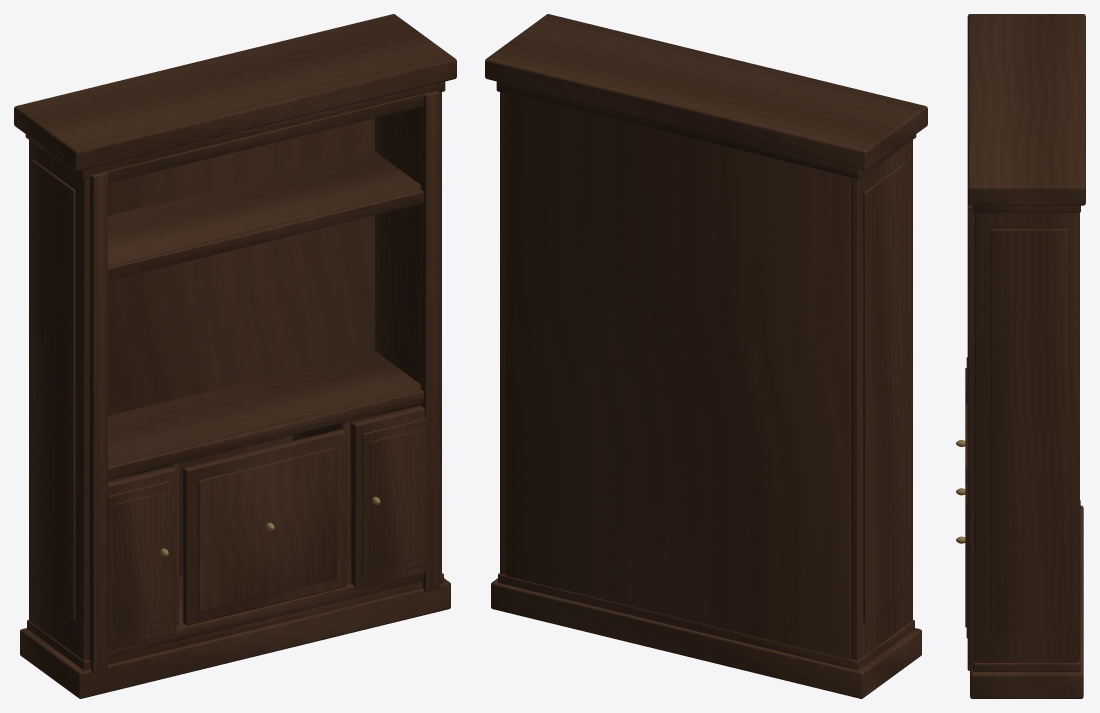
The model's file is victorian_archive_cabinet.glb.
The picture shows the model from 3 angles, left to right: view 1: azimuth 30°, elevation 25°; view 2: azimuth 150°, elevation 25°; view 3: azimuth 270°, elevation 25°; orthographic projection. The views are drawn at different scales.
Parts seen in each view (by area): view 1: Victorian_Archive_Static_Shell, Archive_Service_Panel; view 2: Victorian_Archive_Static_Shell; view 3: Victorian_Archive_Static_Shell, Archive_Service_Panel.
Boxes of the visible parts, x1=… form: Victorian_Archive_Static_Shell: x1=14, y1=14, x2=456, y2=698; Archive_Service_Panel: x1=182, y1=429, x2=346, y2=625; Victorian_Archive_Static_Shell: x1=485, y1=14, x2=927, y2=698; Victorian_Archive_Static_Shell: x1=956, y1=14, x2=1085, y2=698; Archive_Service_Panel: x1=956, y1=403, x2=967, y2=495.
Size of the model in its own units: 1.64 by 2.26 by 0.5164.
2 materials, 1 textured.
